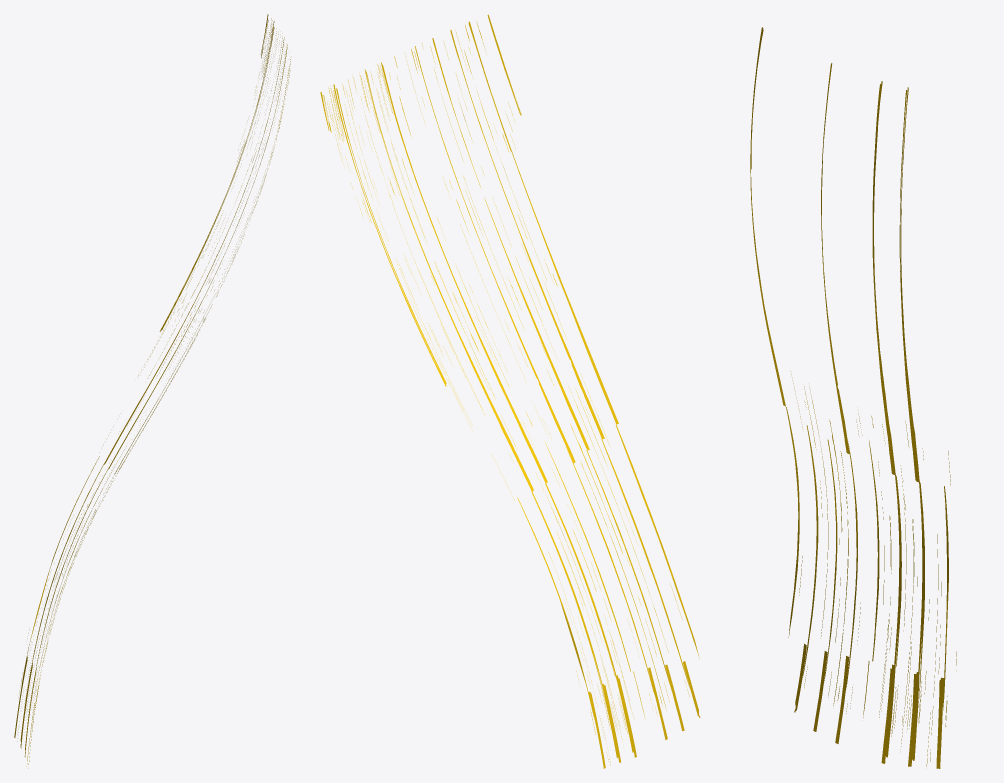
File: curvedtool_overlap_glb.glb
3 renders of one model, left to right at view 1: azimuth 30°, elevation 25°; view 2: azimuth 150°, elevation 25°; view 3: azimuth 270°, elevation 25°, orthographic. The views are drawn at different scales.
Visible parts, largest first — view 1: front 0; view 2: front 0; view 3: front 0.
Boxes of the visible parts, x1=… form: front 0: x1=14, y1=14, x2=290, y2=768; front 0: x1=320, y1=14, x2=700, y2=768; front 0: x1=750, y1=27, x2=956, y2=768.
Bounding box in the file's own units: 0.8274 × 1.69 × 0.4527.
